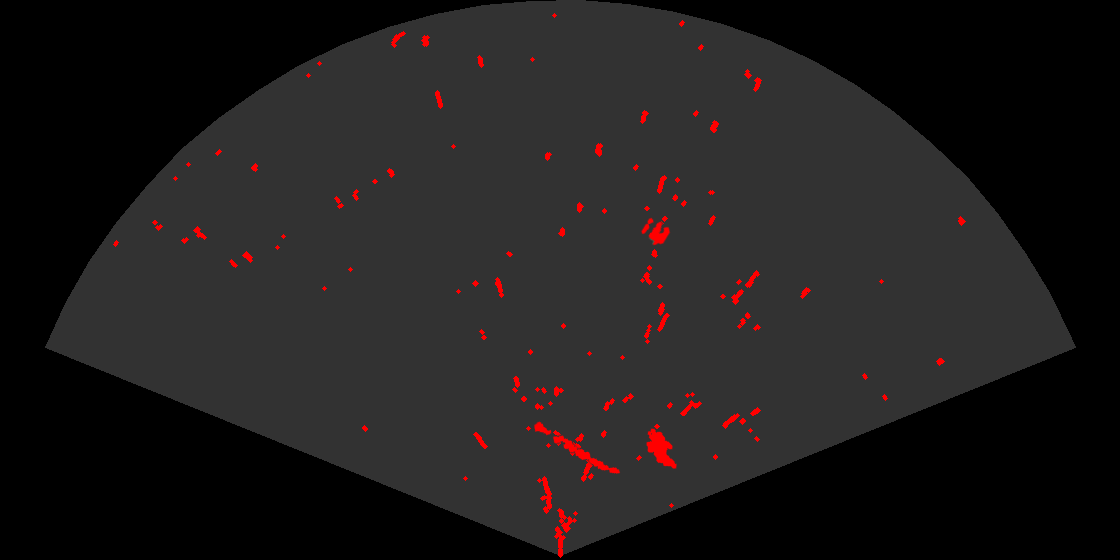AUV: (645, 427, 678, 470)
ball: (639, 216, 672, 247)
chain: (532, 420, 622, 475)
